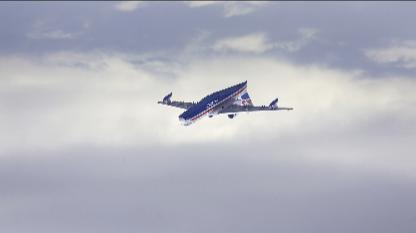B52: (157, 80, 294, 126)
